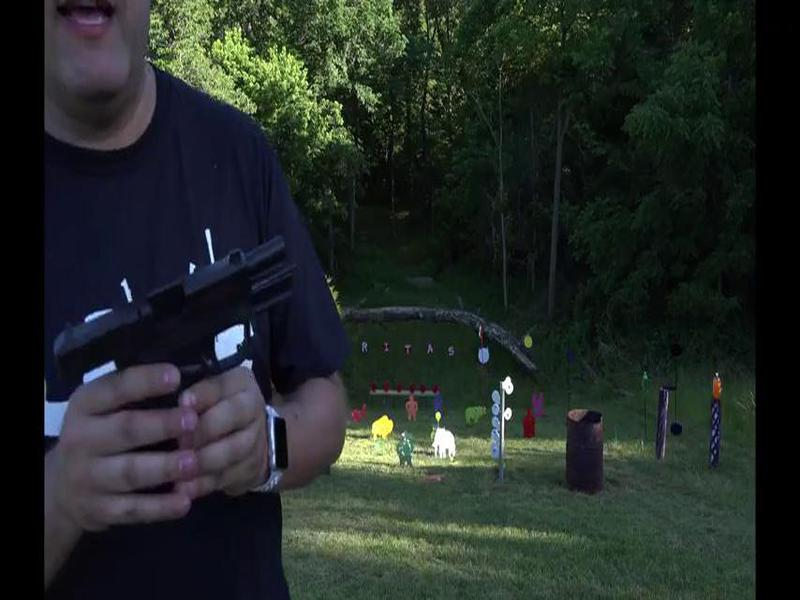Pistola: (56, 230, 327, 503)
